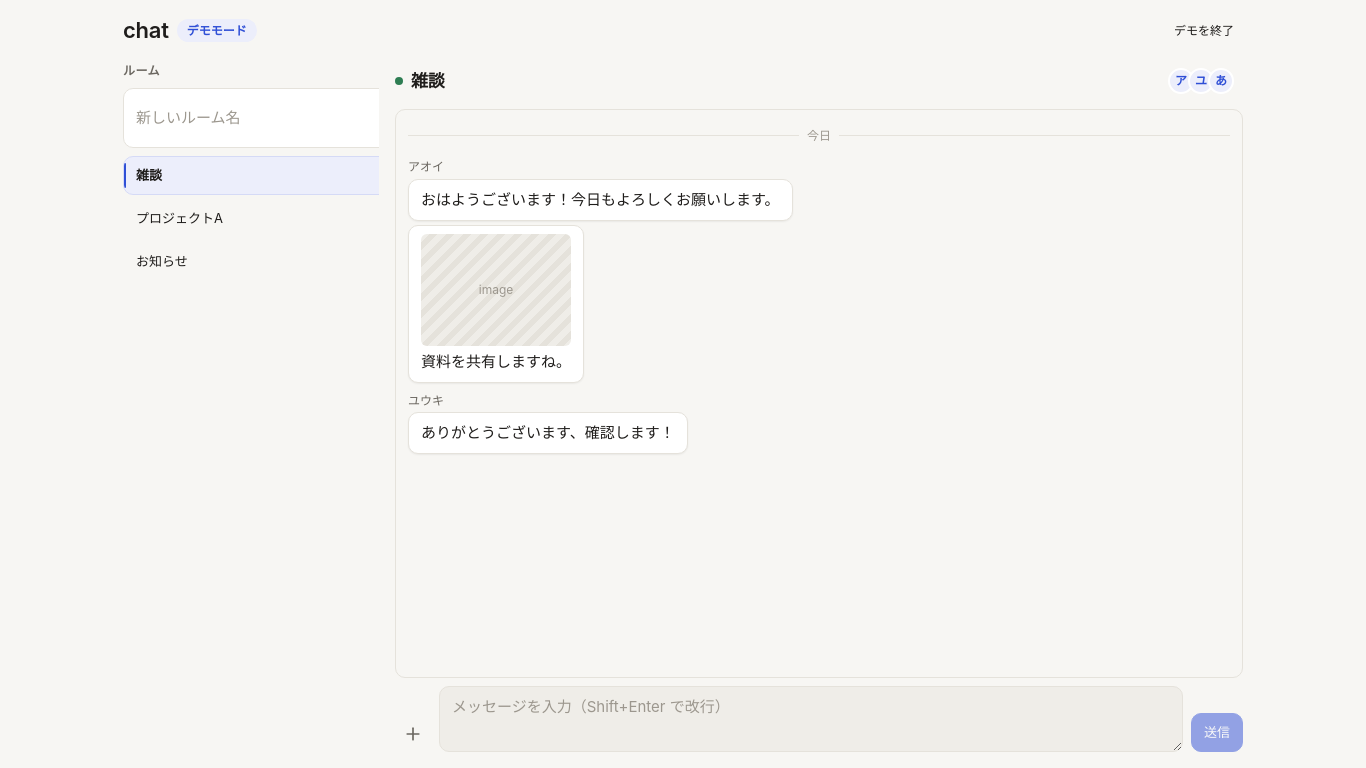
Scenario: 自分のメッセージを編集できる
In the text box with placeholder "メッセージを入力（Shift+Enter で改行）": [811, 719] box [439,686,1183,752], type "編集前"
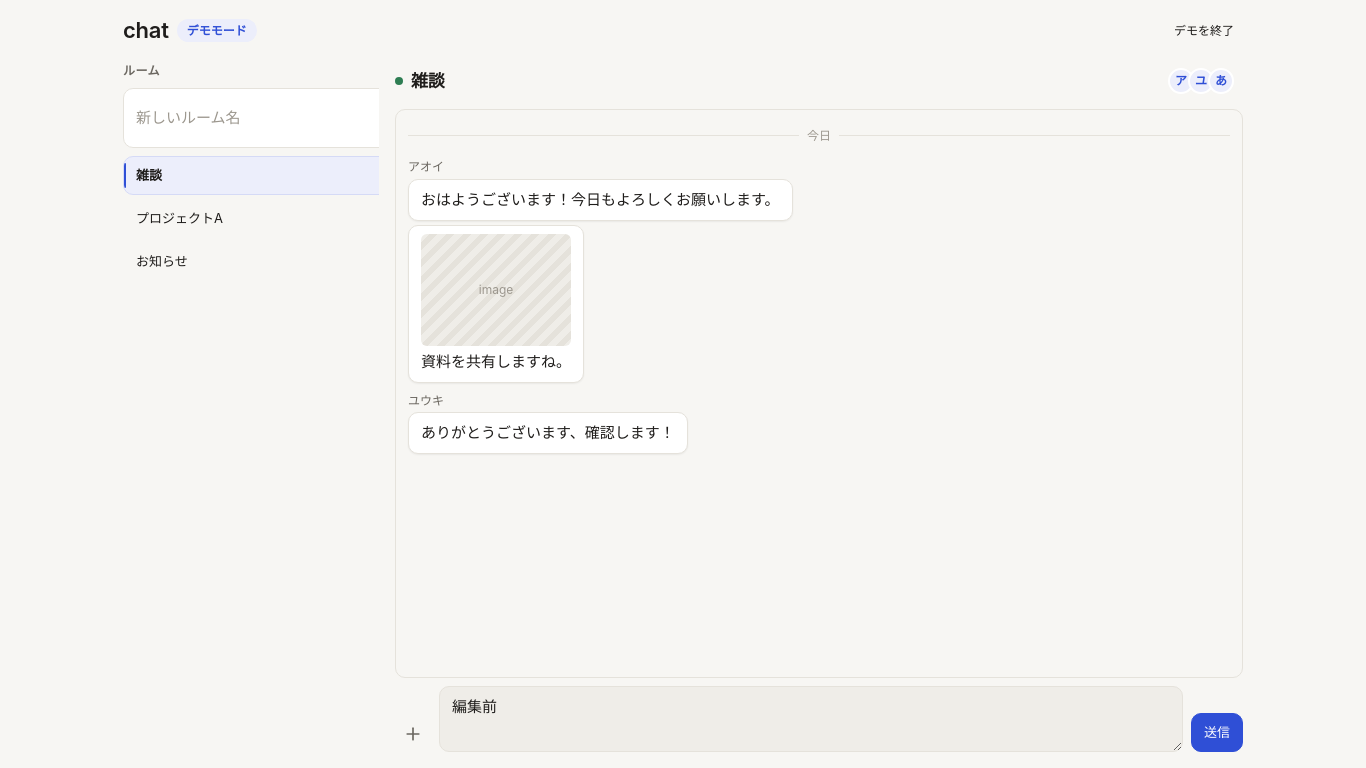
Click the button "送信": [1217, 733] box [1191,713,1243,752]
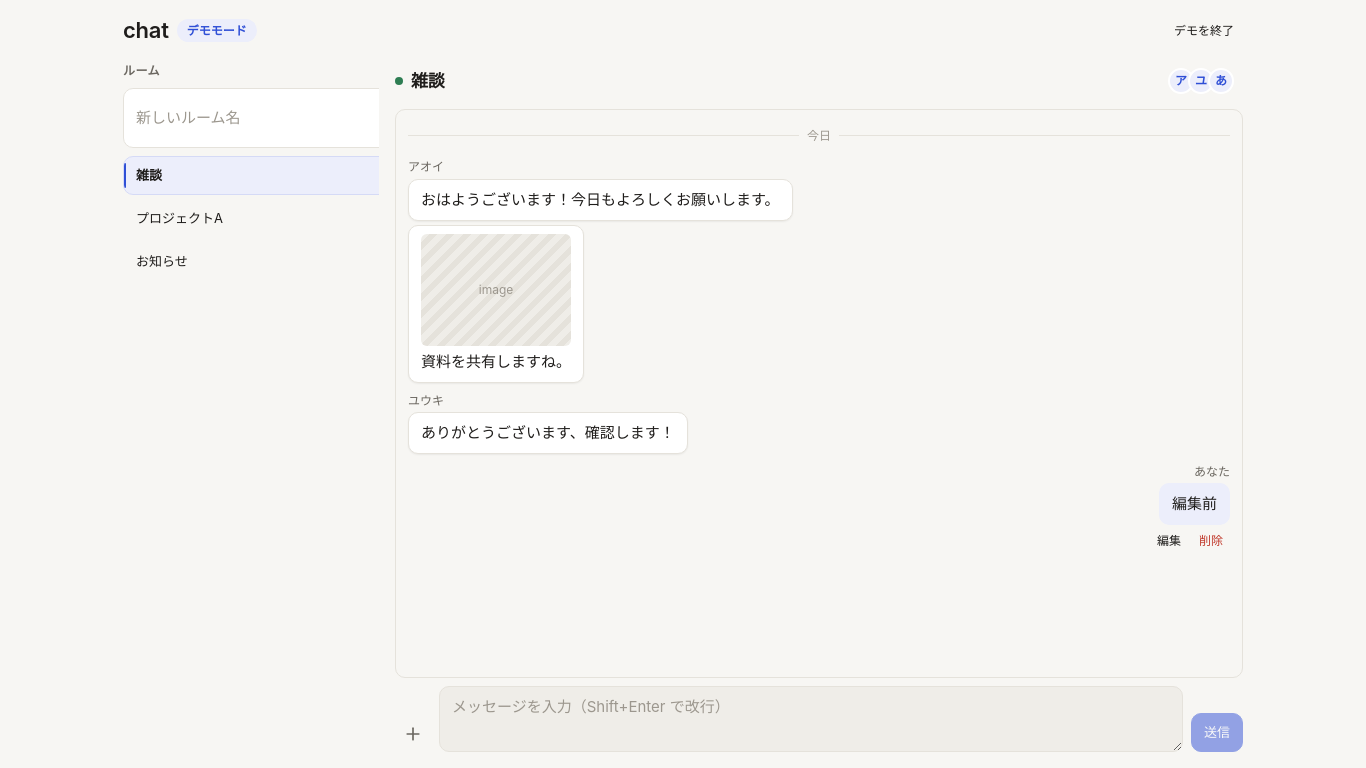
Click the button with aria-label "メッセージを編集": [1169, 541] box [1150,529,1188,553]
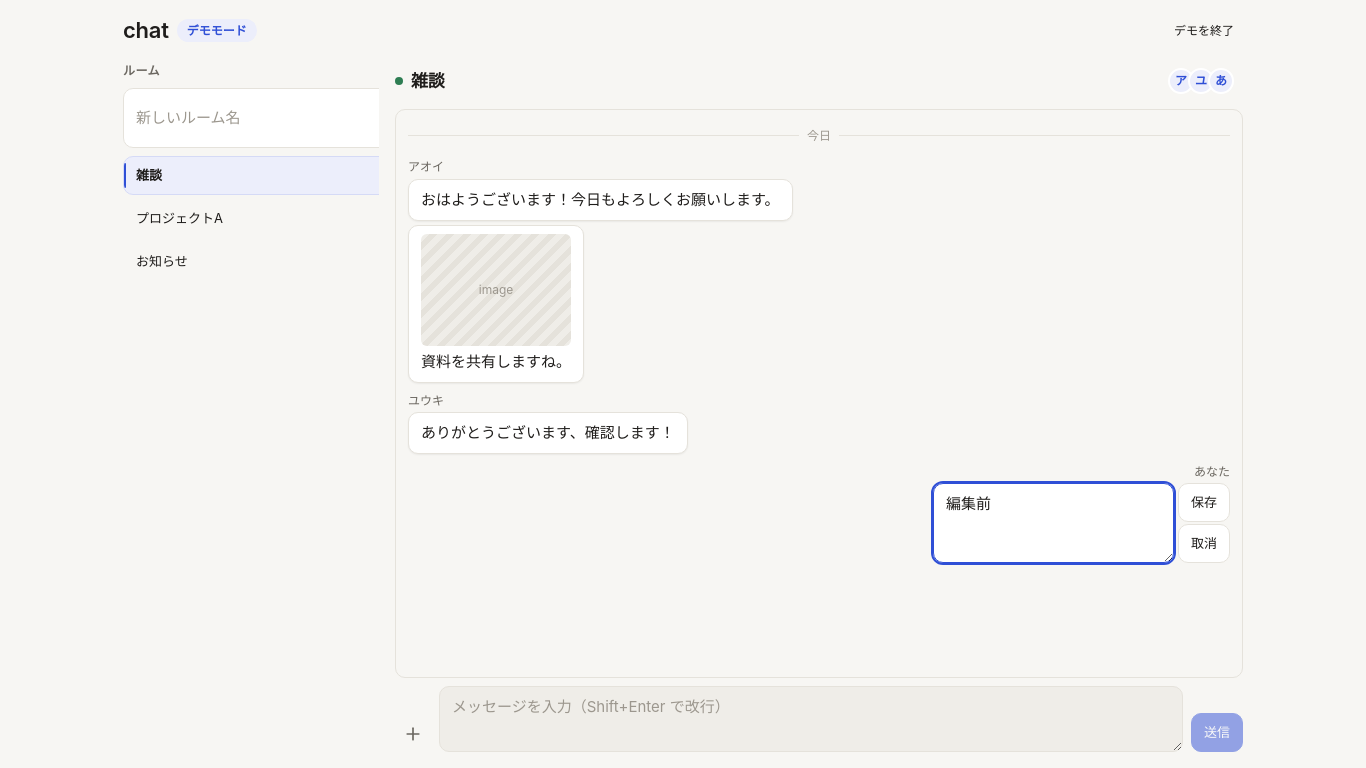
Replace the text in the text box showing "編集前" with "編集後": [1054, 523] box [933,483,1174,563]
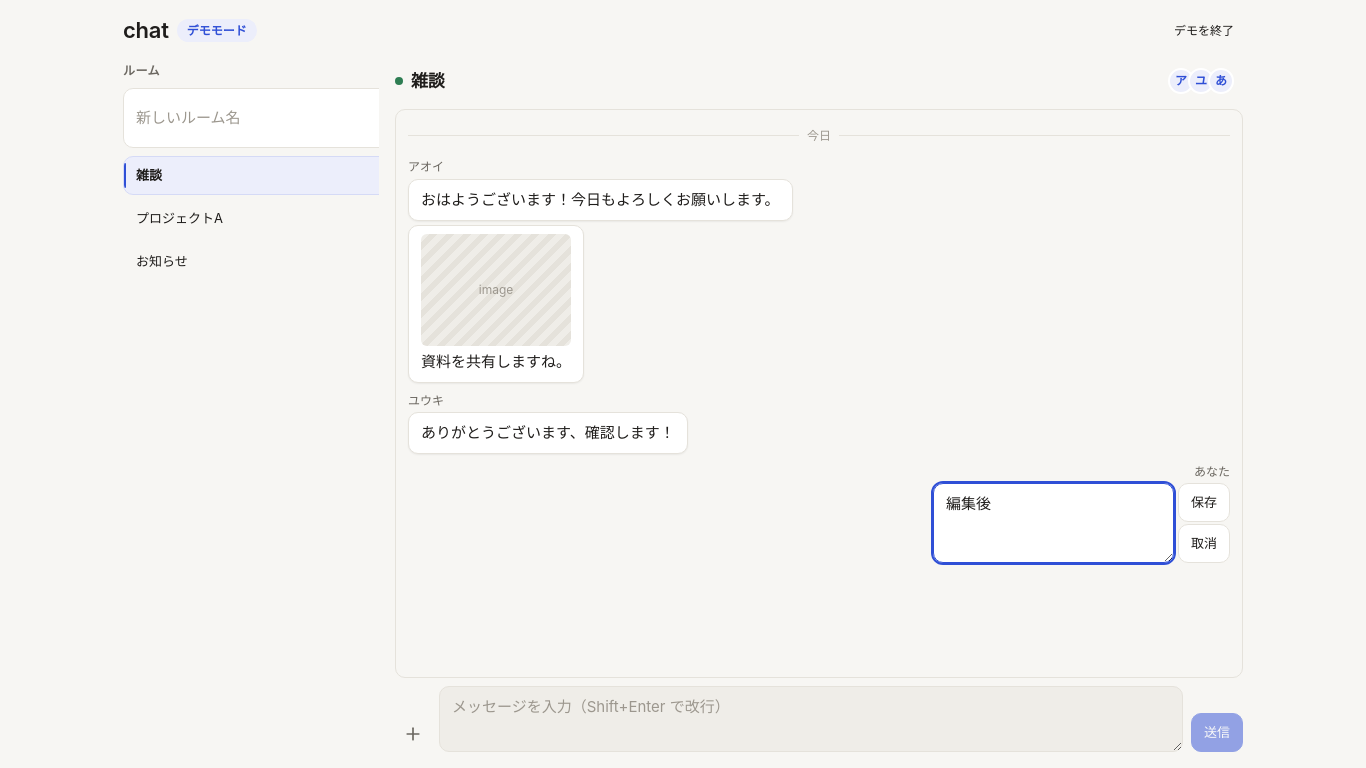
Click the button "保存": [1204, 503] box [1178,483,1230,522]
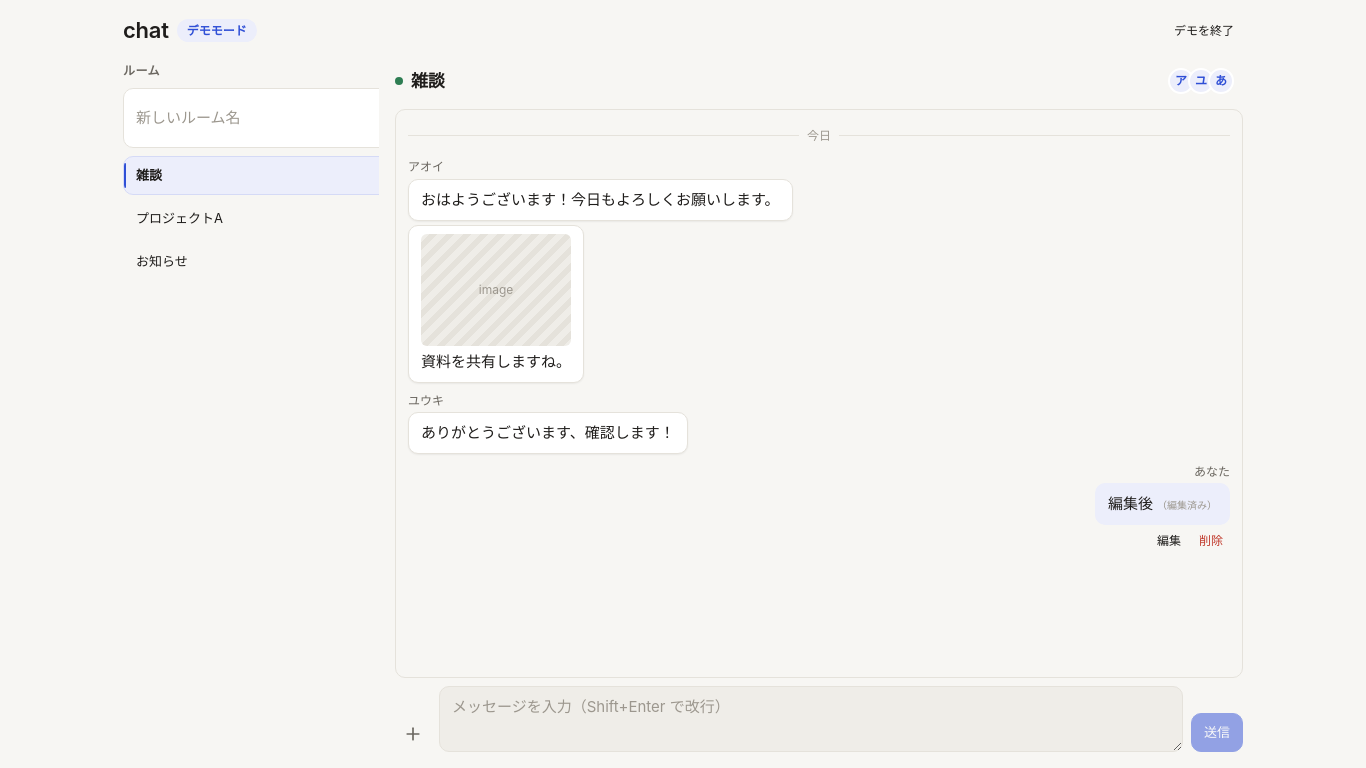
Expected: the text "編集後" is shown, [1108,494,1153,513]
Expected: the text "（編集済み）" is shown, [1157,499,1217,511]
